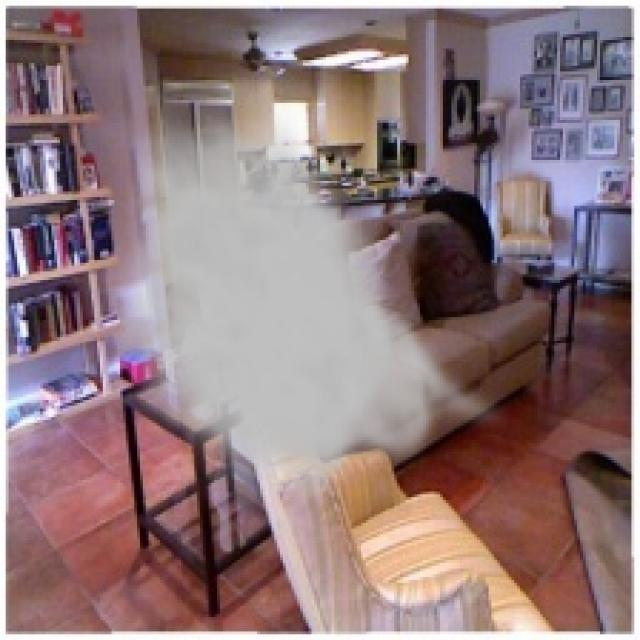smoke: (112, 91, 514, 512)
